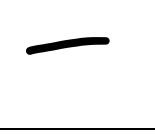minus: (26, 37, 110, 55)
